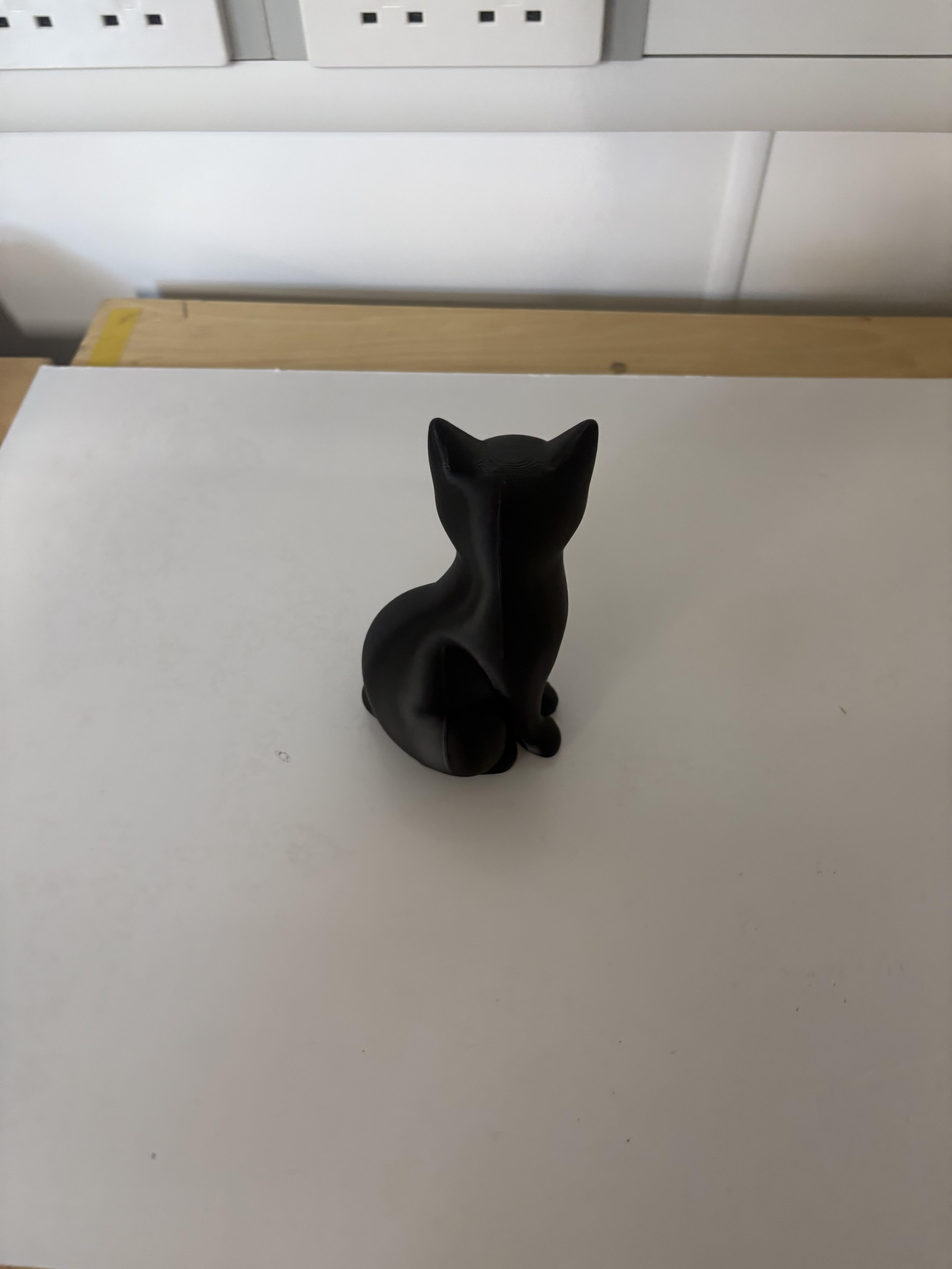cat: (363, 419, 598, 776)
